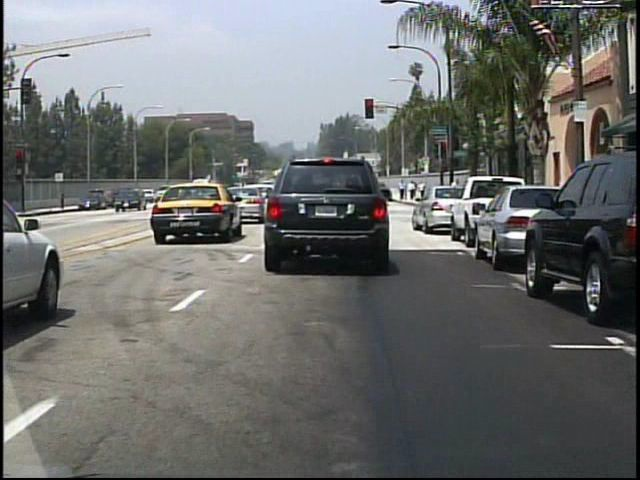person: (448, 177, 464, 214), (398, 178, 406, 200), (409, 180, 417, 202), (419, 180, 427, 200)
